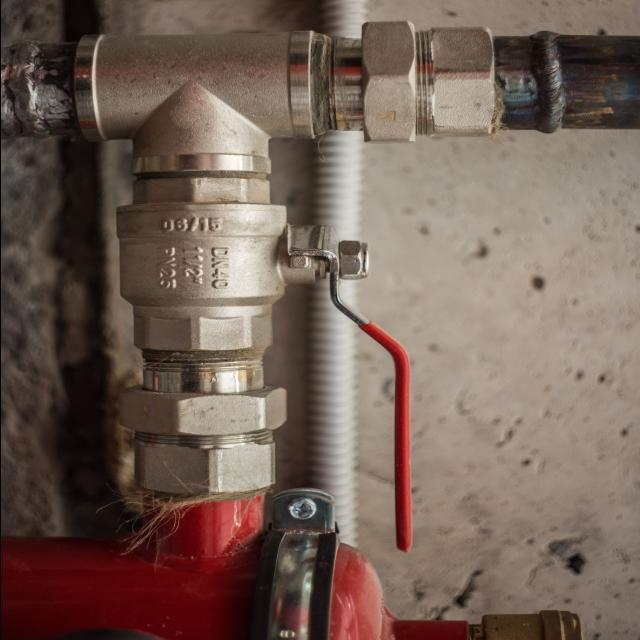opened valve: (112, 193, 420, 560)
